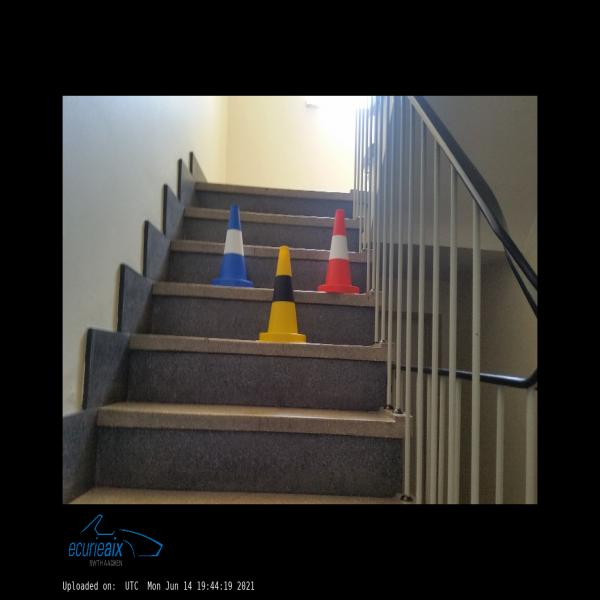blue_cone: (212, 204, 254, 286)
orange_cone: (318, 210, 359, 294)
yellow_cone: (256, 246, 306, 342)
